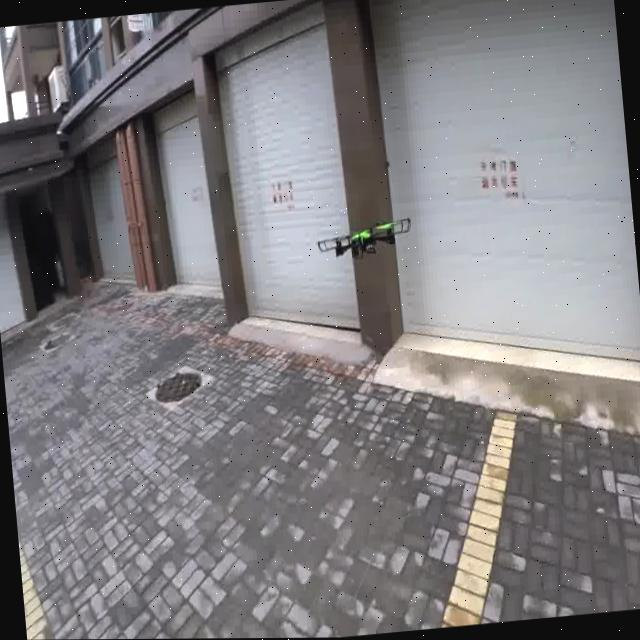drone: (295, 197, 419, 293)
